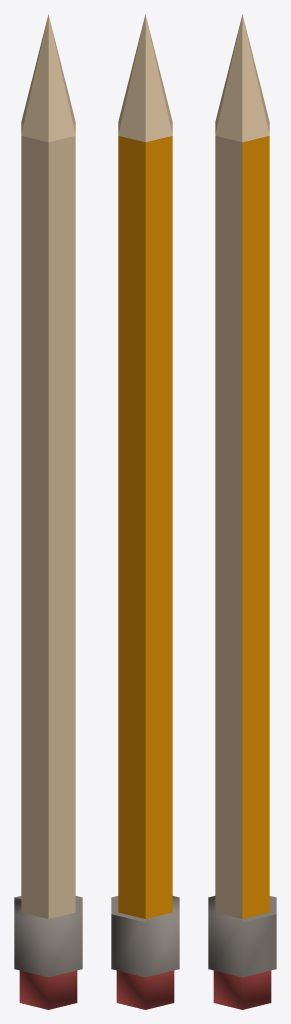
File: PENCIL.fbx
3 renders of one model, left to right at view 1: azimuth 30°, elevation 25°; view 2: azimuth 150°, elevation 25°; view 3: azimuth 330°, elevation 25°, orthographic.
Parts seen in each view (by area): view 1: Pen; view 2: Pen; view 3: Pen.
Part boxes in pixels (bbox=[...]): Pen: bbox=[14, 14, 82, 1009]; Pen: bbox=[111, 14, 179, 1009]; Pen: bbox=[208, 14, 276, 1009].
Size of the model in its own units: 0.0636 by 0.8729 by 0.0551.
